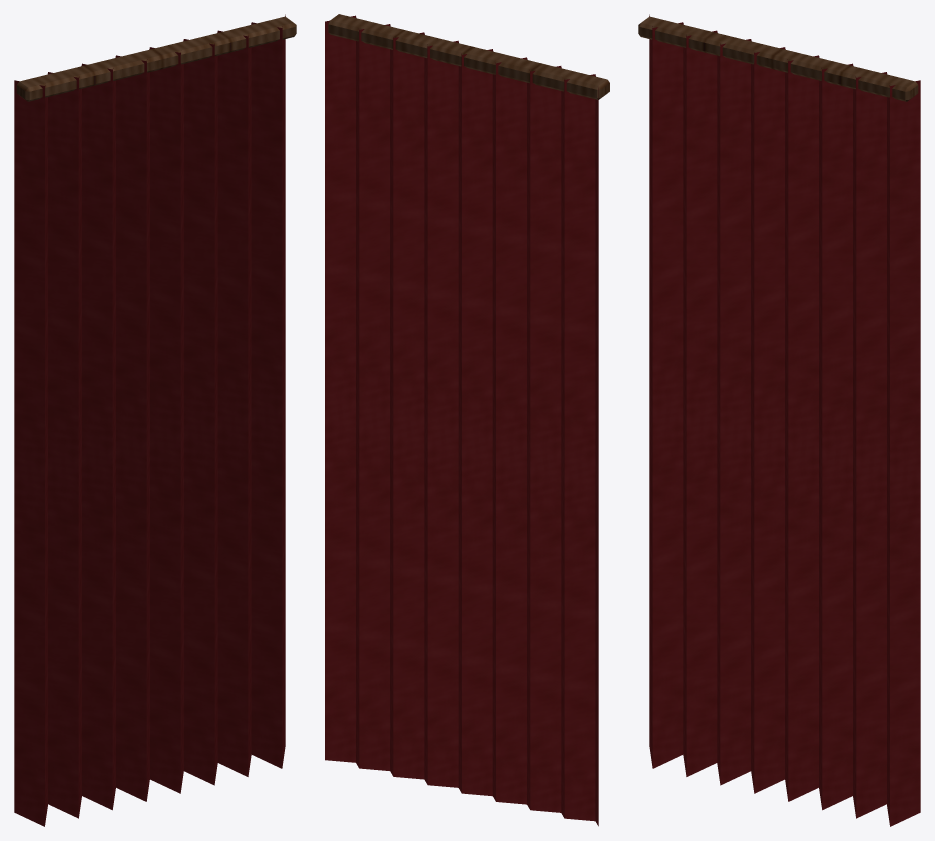
Rendered from door_curtain.glb.
3 renders of one model, left to right at view 1: azimuth 30°, elevation 25°; view 2: azimuth 150°, elevation 25°; view 3: azimuth 330°, elevation 25°, orthographic.
Visible parts, largest first — view 1: door_curtain; view 2: door_curtain; view 3: door_curtain.
Part boxes in pixels (x1,y1,x2,y2): door_curtain: [14, 14, 296, 826]; door_curtain: [325, 14, 609, 826]; door_curtain: [638, 14, 920, 826].
Size of the model in its own units: 0.8 by 2.09 by 0.07.
2 materials, 2 textured.
